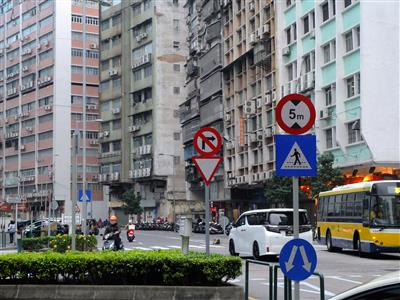5mHeightLimit: (274, 92, 315, 135)
keepLeftRight: (277, 237, 317, 281)
noRightTurn: (191, 124, 222, 157)
pedestrianCrossing: (273, 132, 317, 177)
yield: (189, 153, 224, 186)
